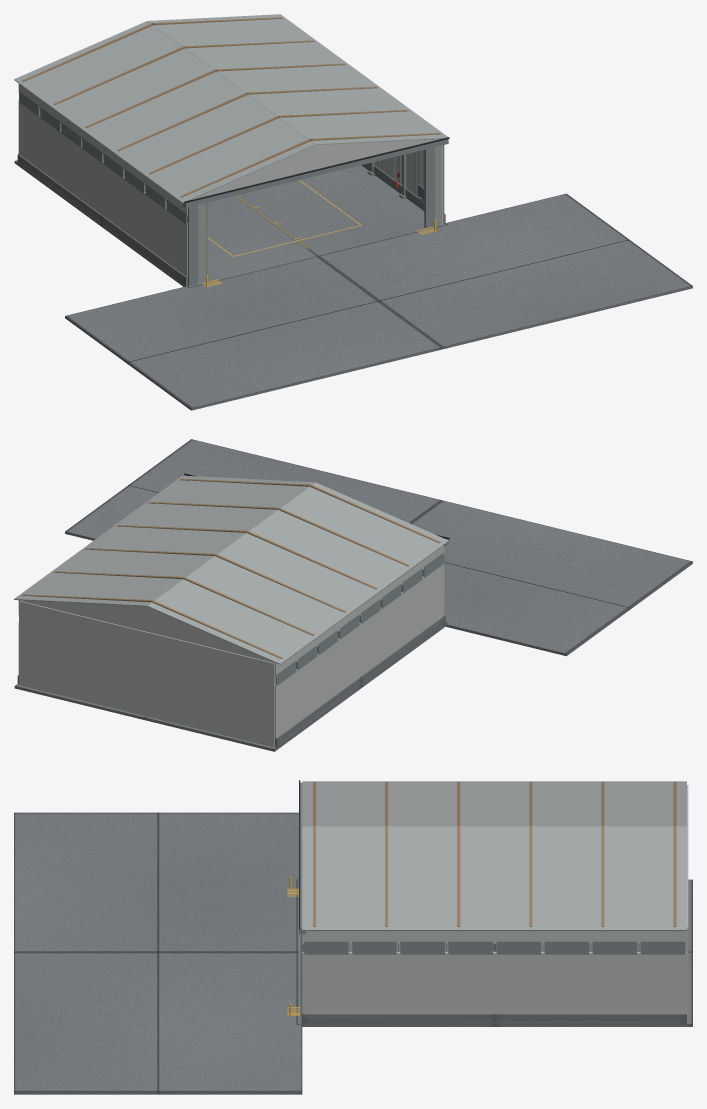
File: Swiss_Service_Hangar.glb
3 renders of one model, top to bottom at view 1: azimuth 30°, elevation 25°; view 2: azimuth 150°, elevation 25°; view 3: azimuth 270°, elevation 25°, orthographic. The views are drawn at different scales.
Parts seen in each view (by area): view 1: Swiss_Service_Hangar; view 2: Swiss_Service_Hangar; view 3: Swiss_Service_Hangar.
Boxes of the visible parts, x1,y1,x2,y2 form: Swiss_Service_Hangar: [14, 14, 692, 410]; Swiss_Service_Hangar: [14, 439, 692, 751]; Swiss_Service_Hangar: [14, 780, 692, 1094].
Bounding box in the file's own units: 55 × 11.93 × 56.5.
Materials: 12 (1 with a texture image).
